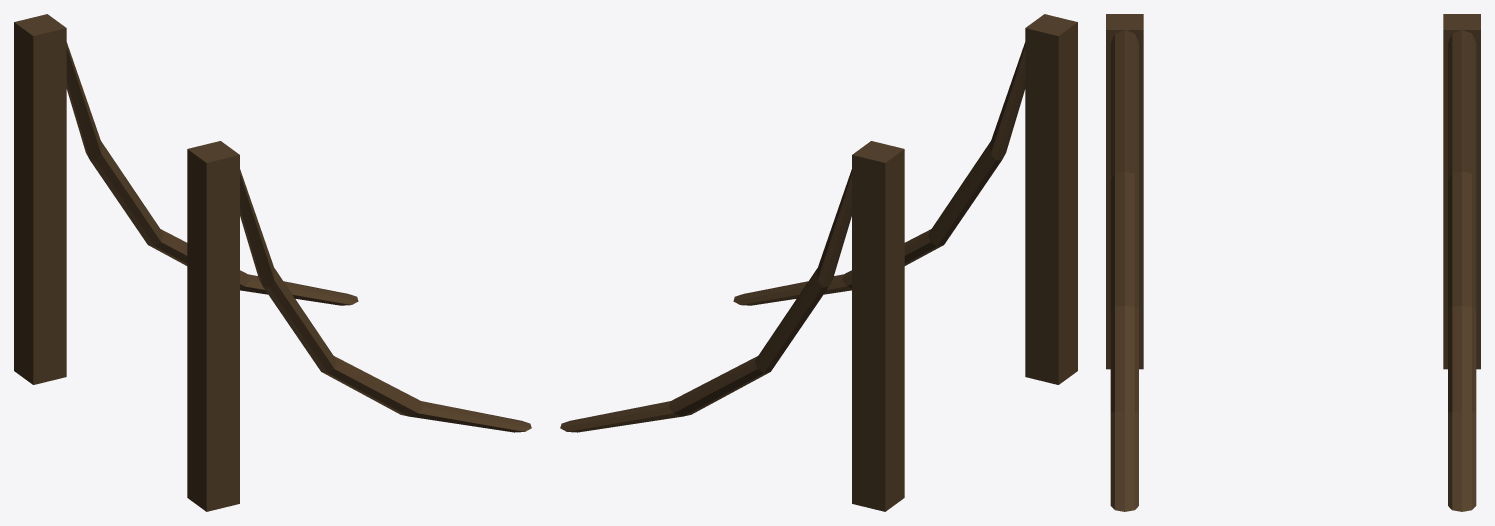
File: Bridge support.fbx
3 renders of one model, left to right at view 1: azimuth 30°, elevation 25°; view 2: azimuth 150°, elevation 25°; view 3: azimuth 270°, elevation 25°, orthographic. The views are drawn at different scales.
Visible parts, largest first — view 1: Bridge support; view 2: Bridge support; view 3: Bridge support.
Boxes of the visible parts, box(x1,y1,x2,y2) form: Bridge support: box(14, 14, 531, 511); Bridge support: box(560, 14, 1077, 511); Bridge support: box(1106, 14, 1480, 511).
Size of the model in its own units: 100 by 100 by 100.
